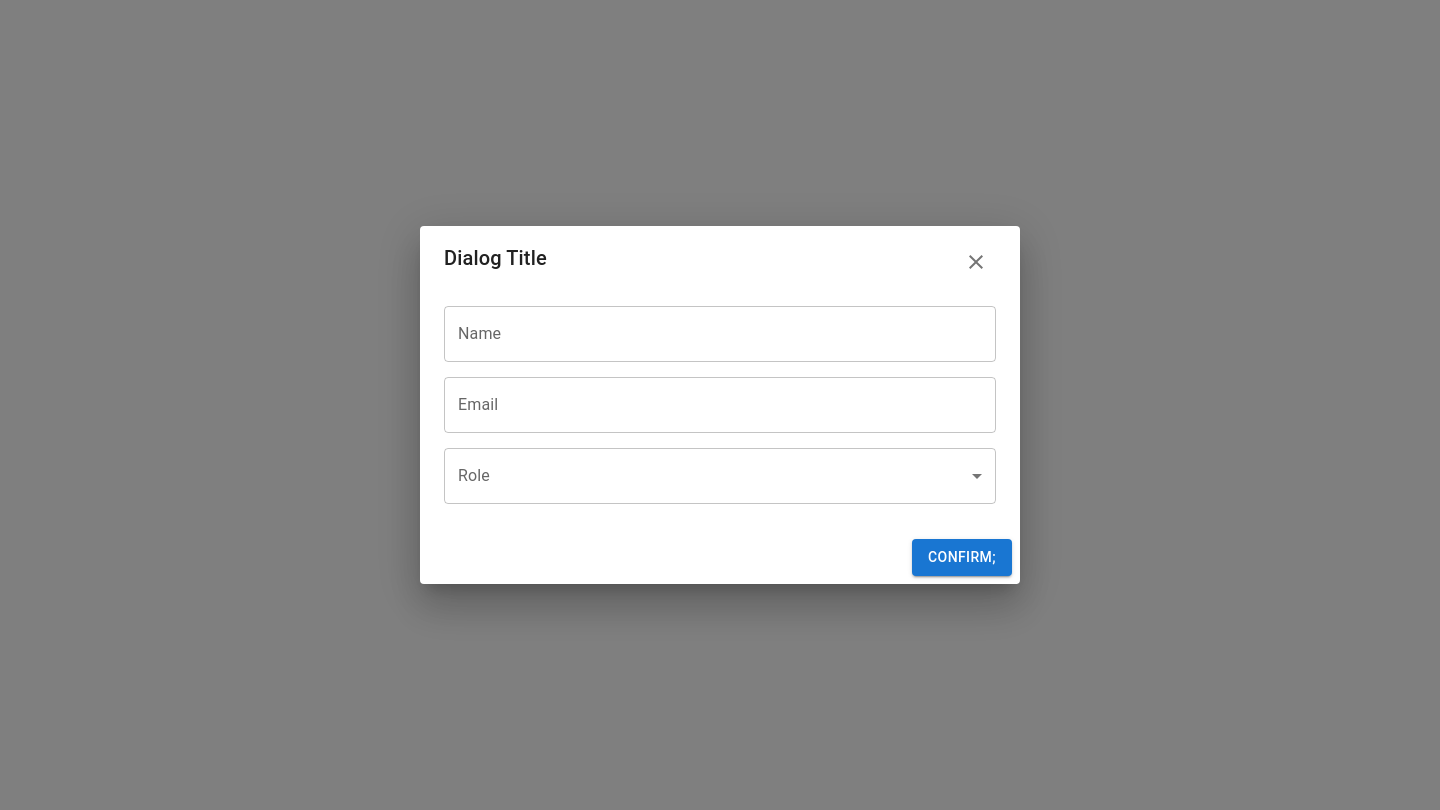
Test: UserActionDialog › Validation › should validate email pattern correctly
Type "invalid..email..pattern" into the field with test id "user-create-email-input" at {"x": 720, "y": 405}, box [444, 377, 996, 433]
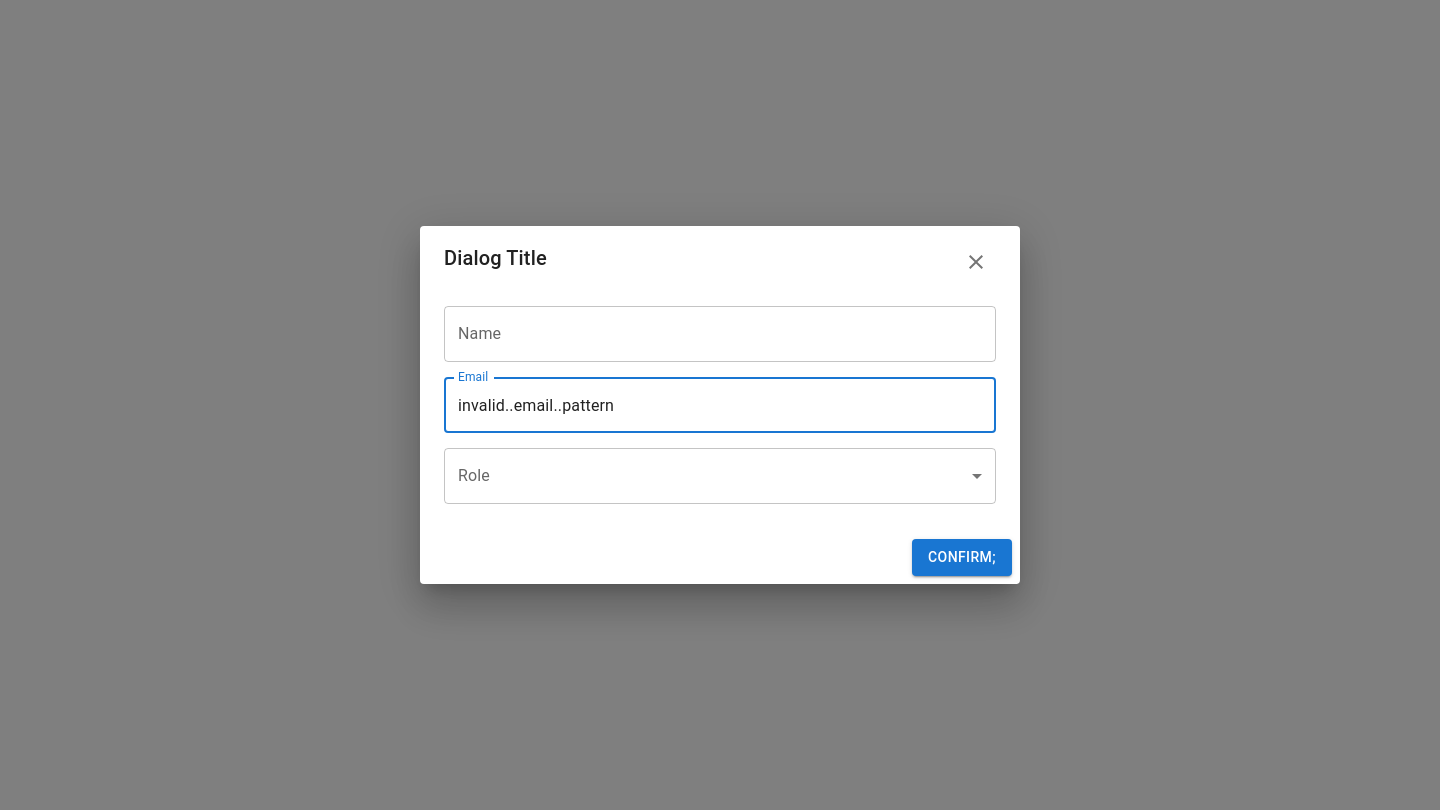
Click the button with test id "user-create-confirm-button" at {"x": 962, "y": 558}, box [912, 539, 1012, 576]
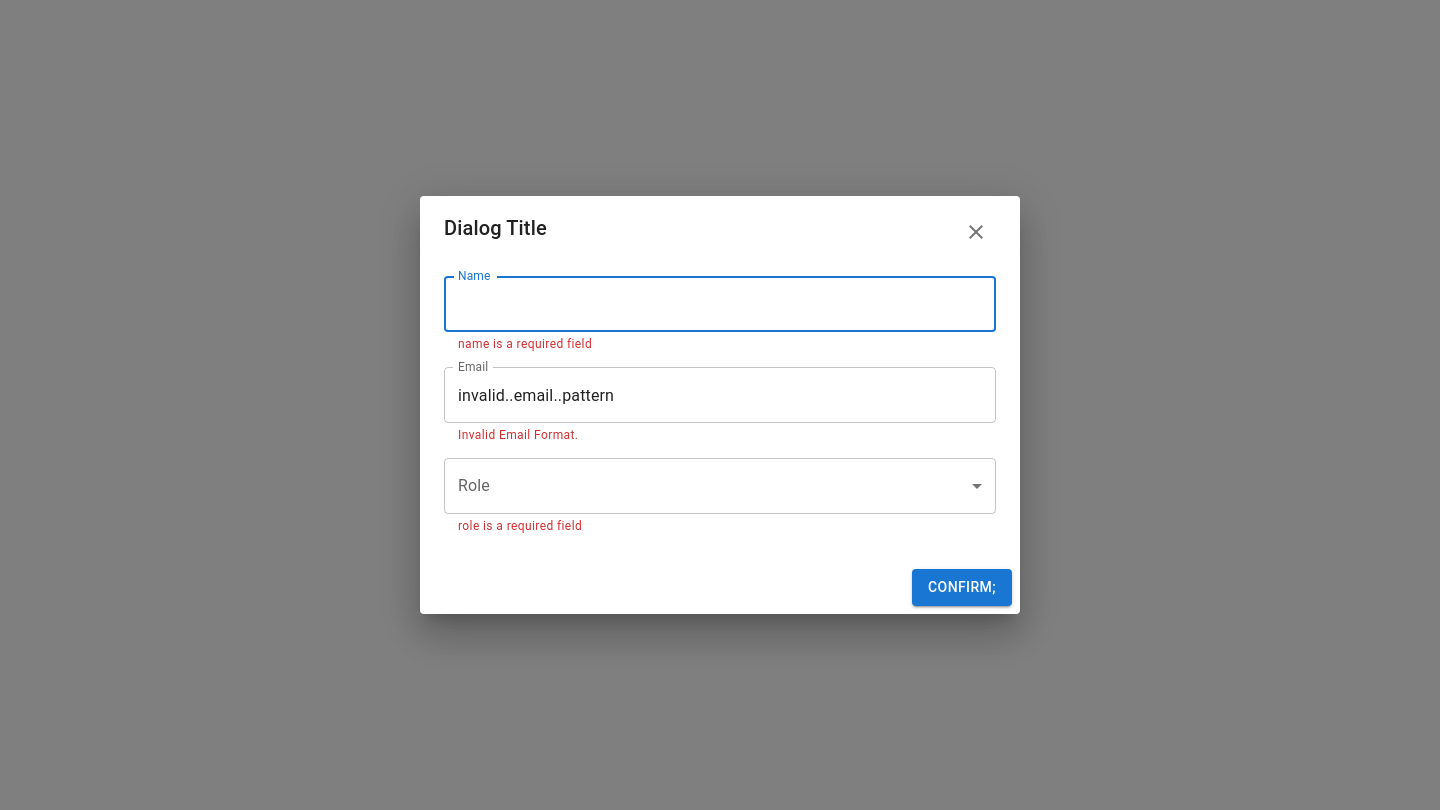
Now the text with test id "user-create-email-error" reads "Invalid Email Format.", box [458, 428, 578, 442]
